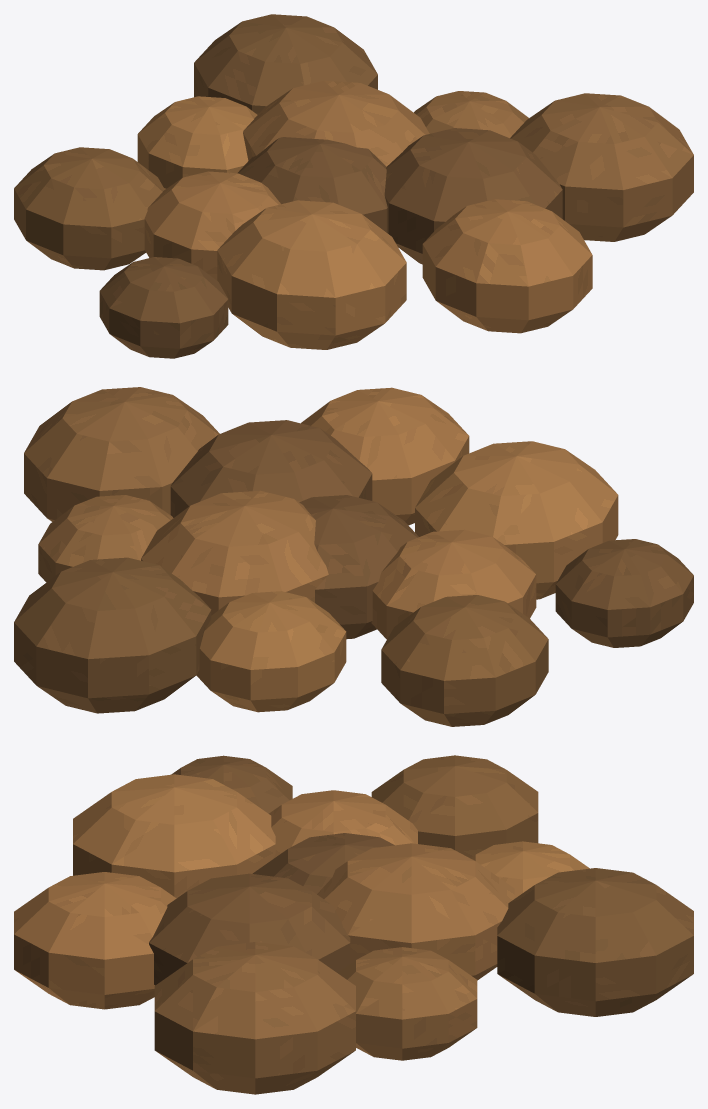
The model's file is threshed_lentils.glb.
3 renders of one model, top to bottom at view 1: azimuth 30°, elevation 25°; view 2: azimuth 150°, elevation 25°; view 3: azimuth 270°, elevation 25°, orthographic. The views are drawn at different scales.
Visible parts, largest first — view 1: block_grain 5, block_grain 11, block_grain 8, block_grain 7, block_grain 3, block_grain 9, block_grain 10, block_grain 1, block_grain 2, block_grain 0, block_grain 4, block_grain 6; view 2: block_grain 9, block_grain 5, block_grain 11, block_grain 7, block_grain 1, block_grain 4, block_grain 3, block_grain 8, block_grain 10, block_grain 2, block_grain 0, block_grain 6; view 3: block_grain 11, block_grain 9, block_grain 5, block_grain 1, block_grain 8, block_grain 3, block_grain 6, block_grain 7, block_grain 2, block_grain 0, block_grain 4, block_grain 10.
Boxes of the visible parts, x1,y1,x2,y2 form: block_grain 5: (217, 200, 406, 349); block_grain 11: (510, 93, 693, 241); block_grain 8: (422, 199, 592, 333); block_grain 7: (14, 147, 164, 270); block_grain 3: (384, 128, 562, 264); block_grain 9: (194, 14, 377, 114); block_grain 10: (99, 257, 228, 358); block_grain 1: (243, 80, 429, 166); block_grain 2: (144, 171, 280, 280); block_grain 0: (237, 137, 387, 232); block_grain 4: (137, 96, 257, 189); block_grain 6: (414, 91, 528, 137); block_grain 9: (14, 557, 211, 713); block_grain 5: (415, 441, 618, 599); block_grain 11: (24, 387, 219, 521); block_grain 7: (381, 595, 548, 726); block_grain 1: (141, 490, 328, 615); block_grain 4: (196, 591, 346, 712); block_grain 3: (170, 420, 372, 517); block_grain 8: (301, 387, 469, 525); block_grain 10: (555, 539, 693, 647); block_grain 2: (371, 529, 536, 639); block_grain 0: (299, 495, 418, 639); block_grain 6: (38, 495, 173, 582); block_grain 11: (154, 942, 355, 1094); block_grain 9: (497, 868, 693, 1016); block_grain 5: (73, 774, 275, 898); block_grain 1: (317, 843, 514, 980); block_grain 8: (14, 872, 176, 1009); block_grain 3: (149, 873, 350, 985); block_grain 6: (338, 947, 477, 1060); block_grain 7: (371, 755, 538, 858); block_grain 2: (269, 790, 417, 858); block_grain 0: (252, 833, 394, 894); block_grain 4: (470, 841, 589, 898); block_grain 10: (171, 755, 292, 813).
Bounding box in the file's own units: 0.1143 × 0.0232 × 0.11.
1 material, 1 textured.
